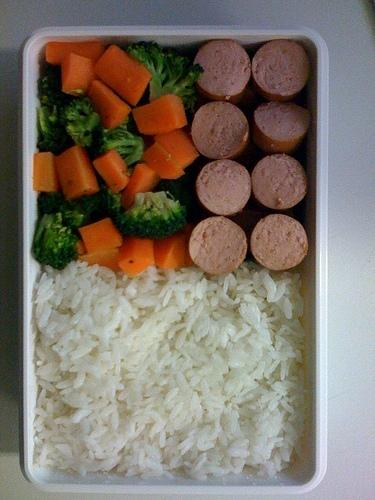broccoli: (124, 40, 205, 113), (113, 191, 188, 240), (31, 212, 79, 270), (94, 128, 149, 175), (83, 169, 126, 226), (61, 94, 100, 146), (38, 75, 80, 121), (58, 194, 101, 234), (37, 107, 70, 154), (34, 189, 66, 237), (48, 105, 59, 125)
carrot: (92, 44, 152, 106), (55, 146, 100, 200), (133, 94, 188, 136), (87, 80, 131, 130), (121, 163, 163, 211), (154, 222, 195, 270), (154, 128, 198, 170), (92, 148, 130, 193), (46, 42, 106, 70), (142, 142, 185, 180), (78, 218, 123, 254), (118, 235, 155, 278), (60, 54, 93, 98), (77, 246, 123, 274), (33, 152, 59, 192), (76, 240, 86, 256)
